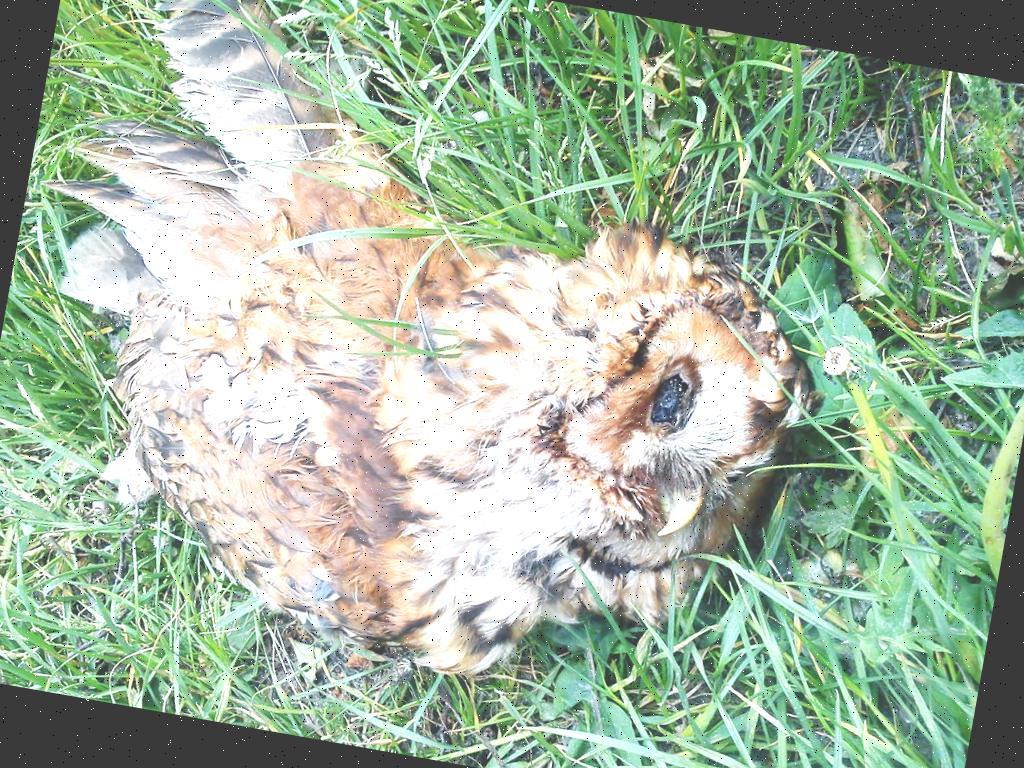Owl: (0, 0, 876, 734)
